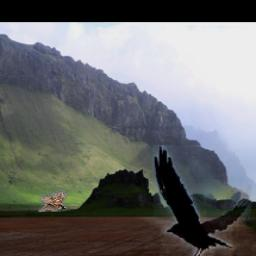Crow: (154, 146, 252, 256)
Sparrow: (38, 191, 67, 213)
